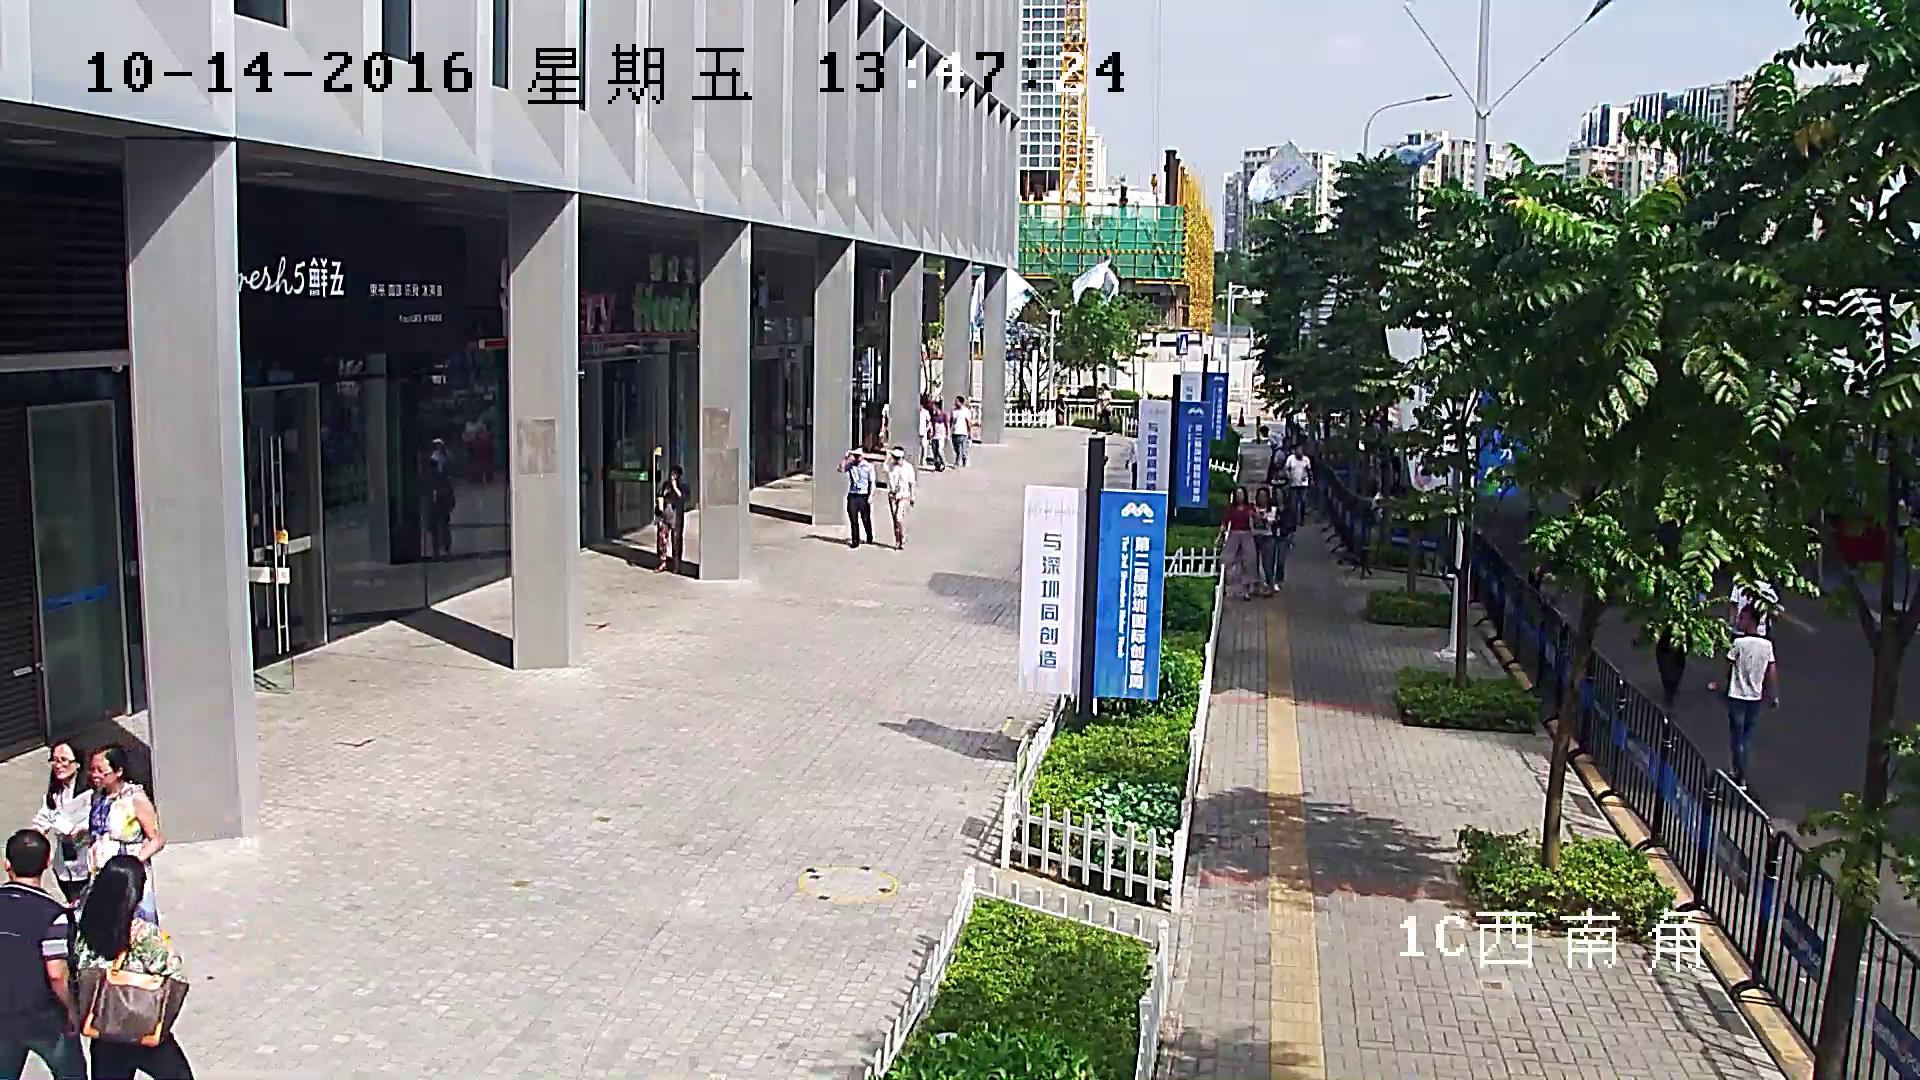person: (77, 853, 194, 1080), (0, 828, 85, 1080), (59, 743, 166, 928), (1721, 605, 1780, 790), (31, 737, 93, 902), (1220, 486, 1260, 600), (836, 446, 876, 548), (651, 464, 689, 572), (880, 446, 915, 548), (1729, 578, 1779, 641), (426, 459, 456, 560), (1254, 487, 1276, 596), (1655, 630, 1687, 706), (1284, 444, 1312, 526), (1274, 487, 1296, 587), (1259, 425, 1290, 486), (949, 395, 971, 468), (1260, 424, 1283, 484), (930, 402, 948, 471), (1092, 382, 1113, 434), (430, 438, 450, 472), (920, 402, 931, 464), (464, 412, 486, 433)
